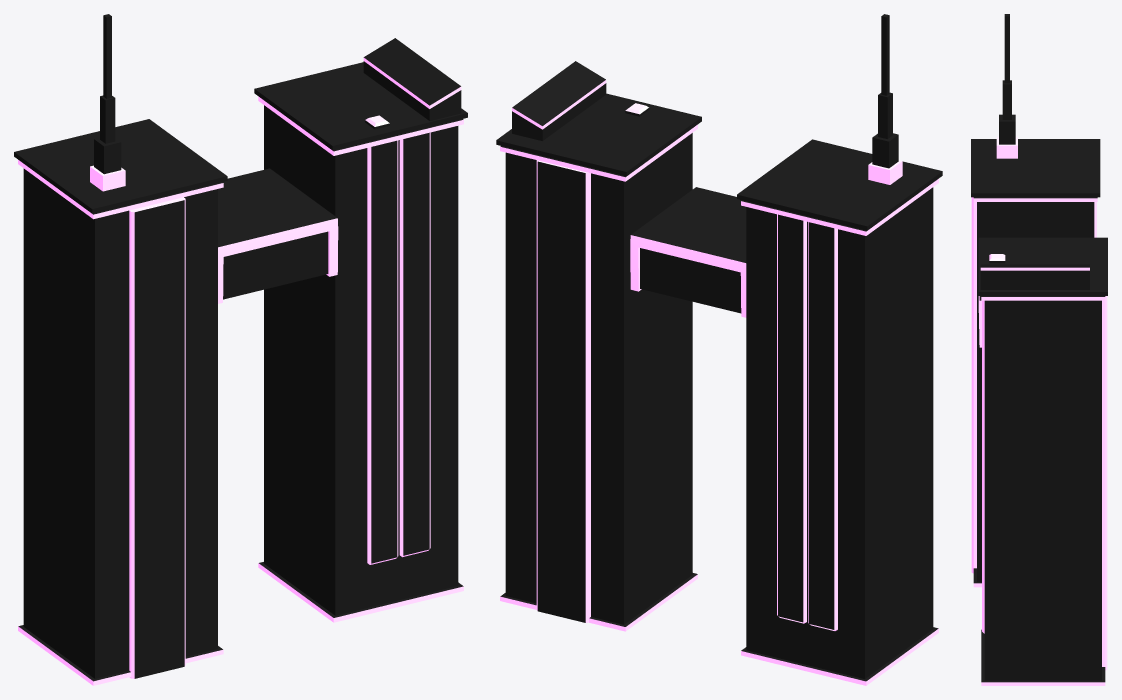
The picture shows the model from 3 angles, left to right: view 1: azimuth 30°, elevation 25°; view 2: azimuth 150°, elevation 25°; view 3: azimuth 270°, elevation 25°; orthographic projection. The views are drawn at different scales.
Visible parts, largest first — view 1: Box046; view 2: Box046; view 3: Box046.
Part boxes in pixels (bbox=[...]): Box046: bbox=[14, 14, 467, 685]; Box046: bbox=[496, 14, 942, 685]; Box046: bbox=[971, 14, 1107, 685].
Bounding box in the file's own units: 1007 × 1641 × 380.
